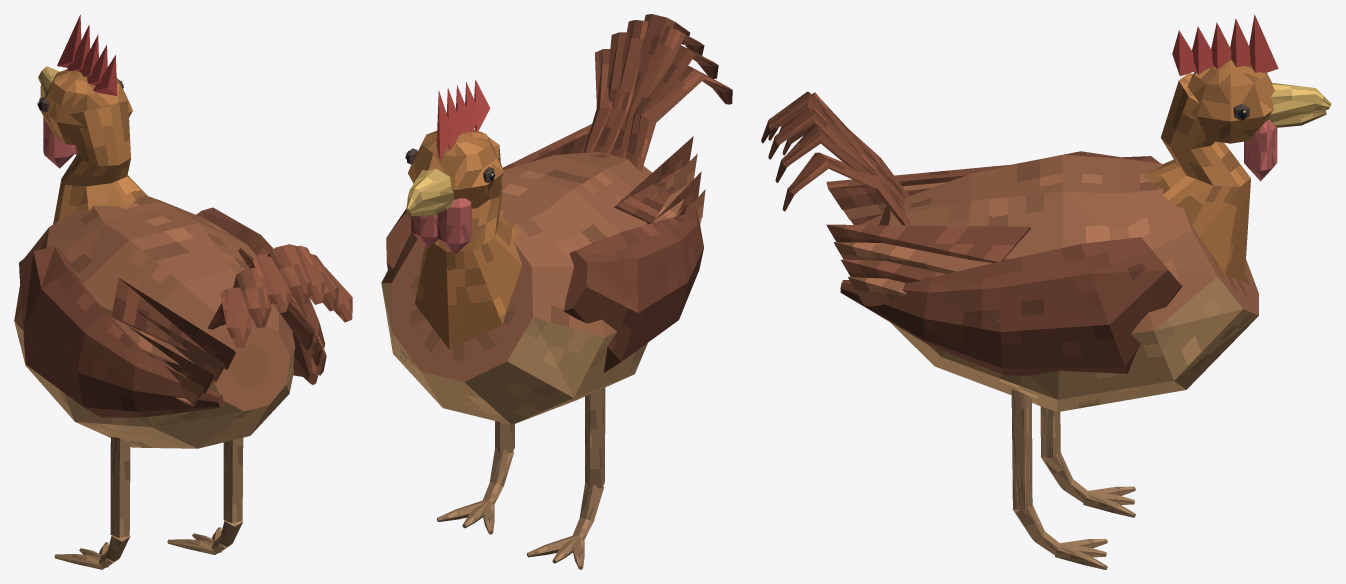
File: mon_chicken.glb
3 views of the same model, side by side, from view 1: azimuth 30°, elevation 25°; view 2: azimuth 150°, elevation 25°; view 3: azimuth 270°, elevation 25° (orthographic). The views are drawn at different scales.
Parts seen in each view (by area): view 1: closed_body; view 2: closed_body; view 3: closed_body.
Part boxes in pixels (left/top/right/bottom): closed_body: left=14, top=14, right=352, bottom=569; closed_body: left=381, top=14, right=732, bottom=569; closed_body: left=761, top=14, right=1331, bottom=569.
Bounding box in the file's own units: 0.216 × 0.4208 × 0.418.
1 material, 1 textured.
